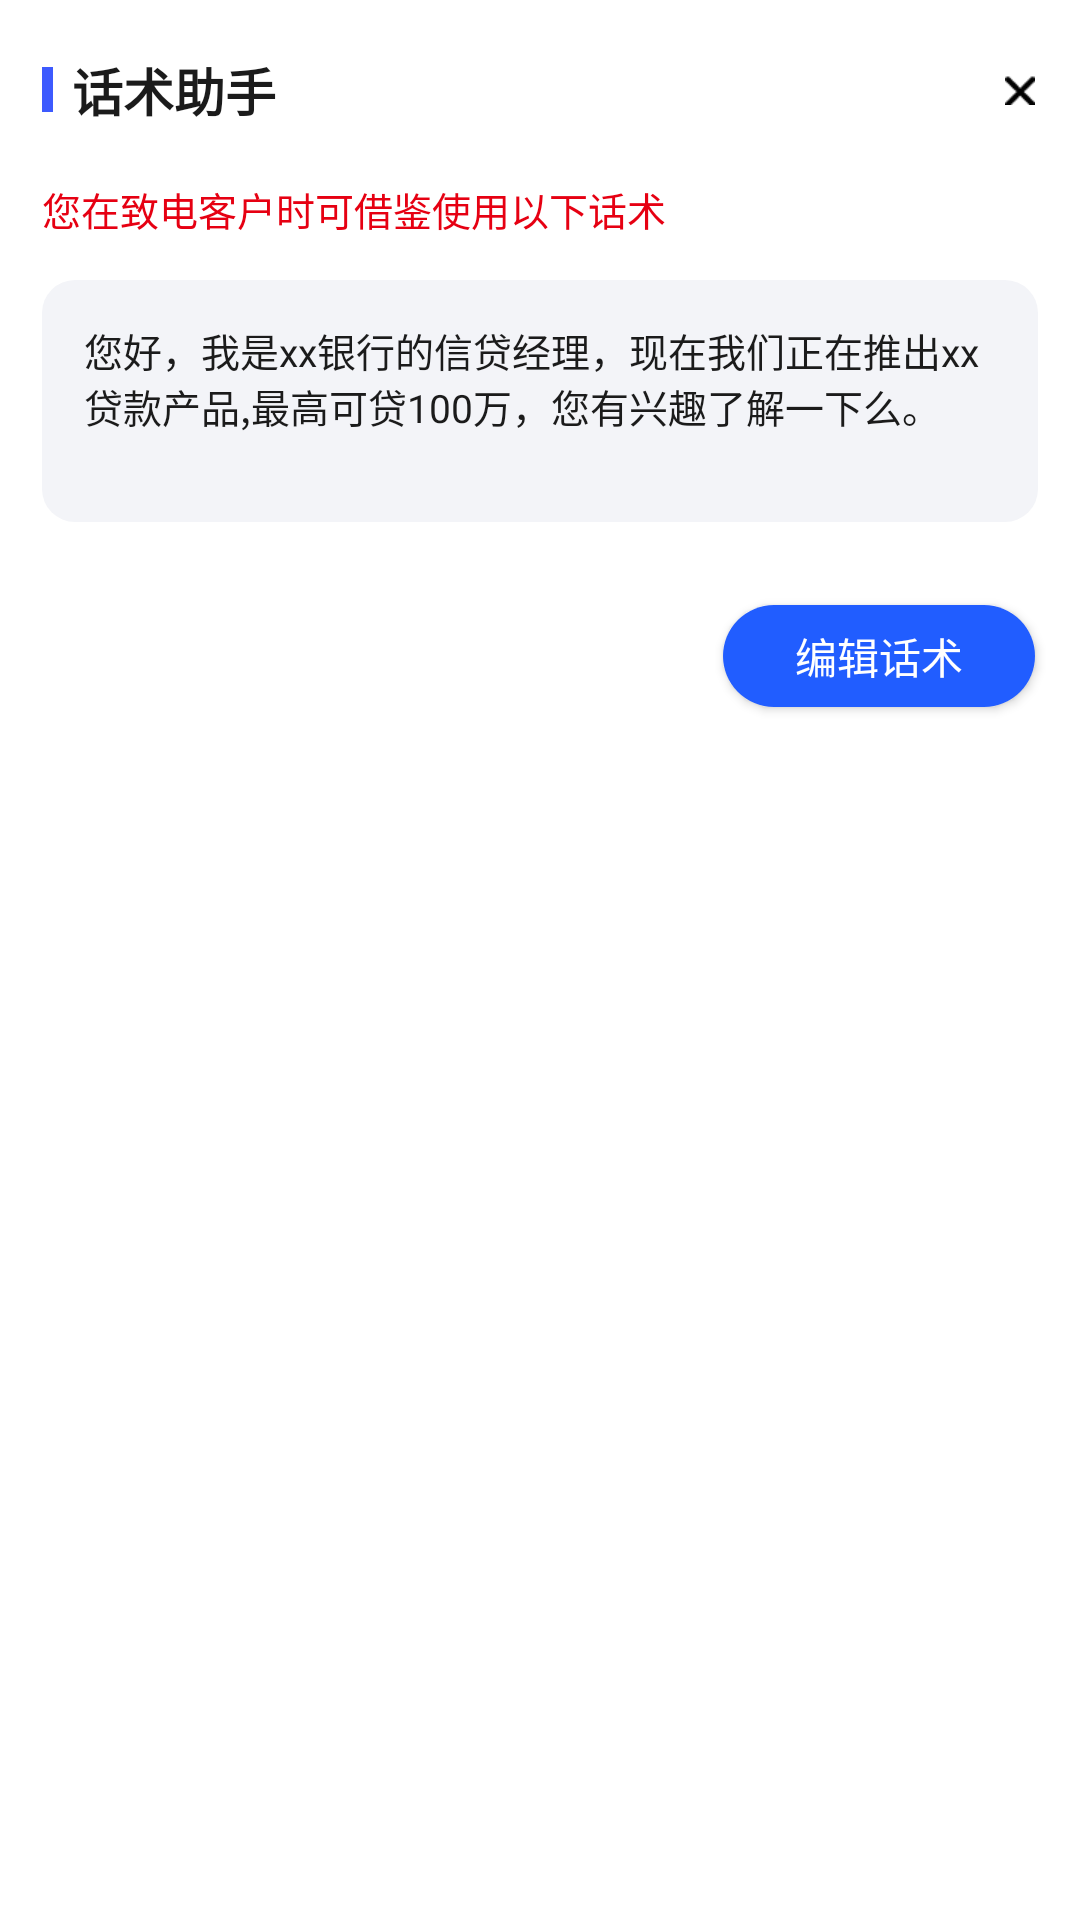

Screen size 1080*1920. Icon name, then its box in pixels as (x1, y1, x2, y2):
popup but off: (1005, 76, 1035, 105)
